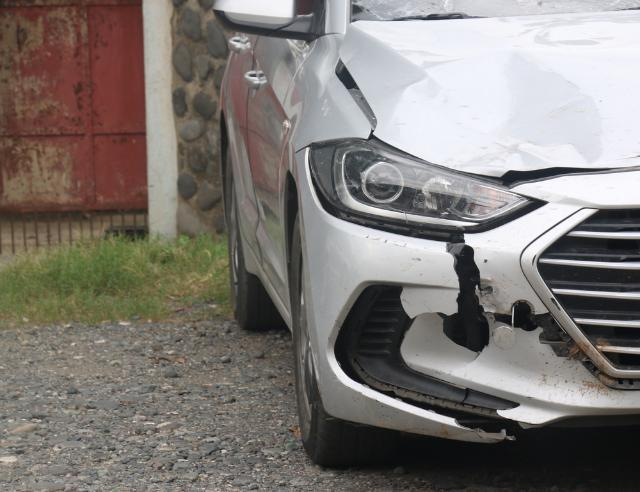crack: (438, 235, 542, 360), (455, 413, 526, 442)
dent: (386, 49, 601, 177)
